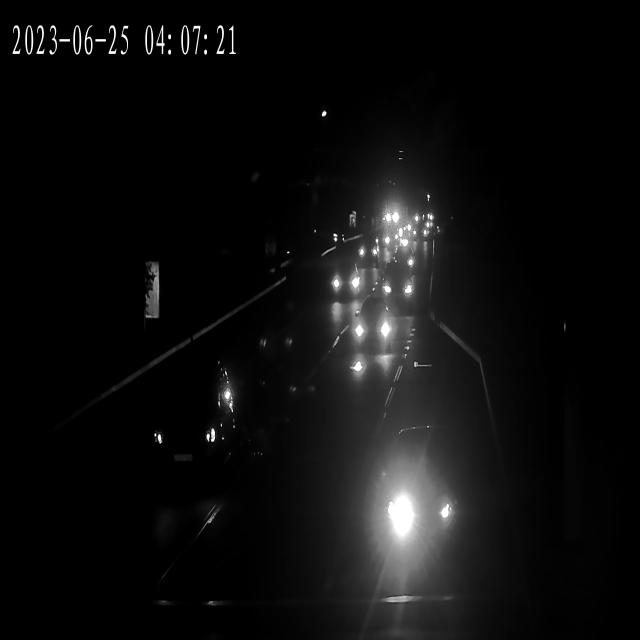Car: (152, 362, 232, 494), (368, 461, 457, 554), (351, 303, 401, 355), (327, 264, 365, 302), (374, 269, 414, 305), (355, 235, 385, 265), (376, 231, 407, 251), (410, 226, 432, 243), (379, 211, 402, 227)
